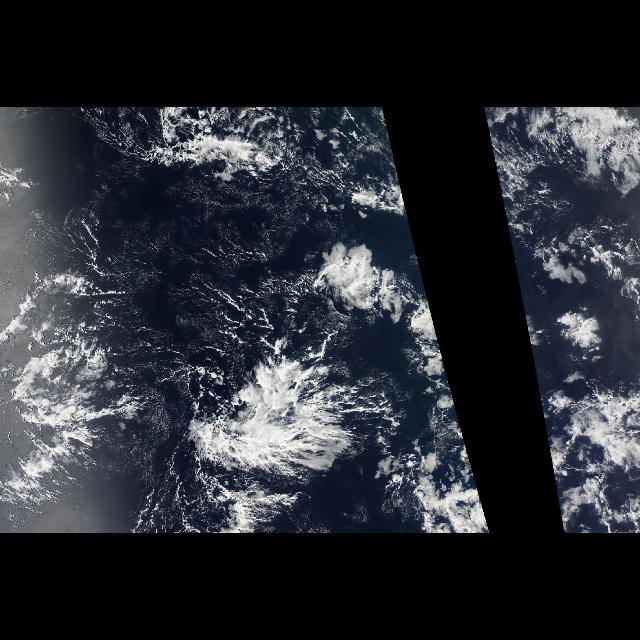Fish: (9, 118, 409, 522)
Flower: (324, 112, 490, 530), (484, 112, 638, 530)
Sugar: (30, 192, 268, 282)
